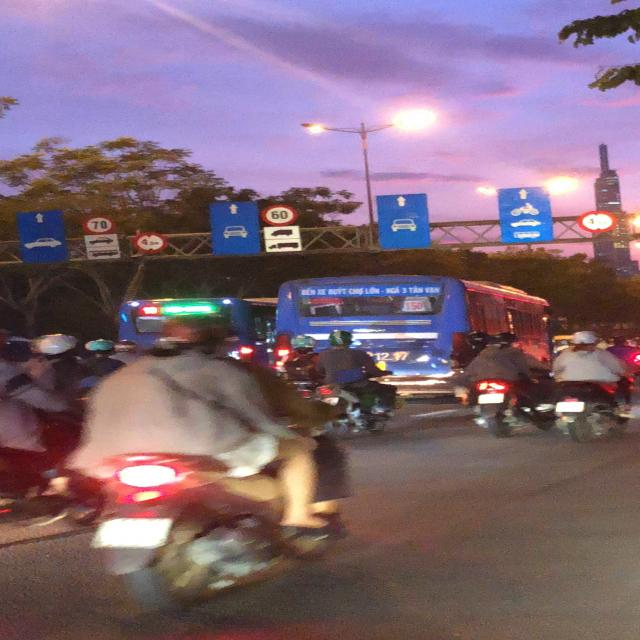Bien bao han che chieu cao: (132, 232, 168, 254)
Bien bao toc do toi da cho phep: (80, 212, 118, 235), (259, 204, 294, 227)
